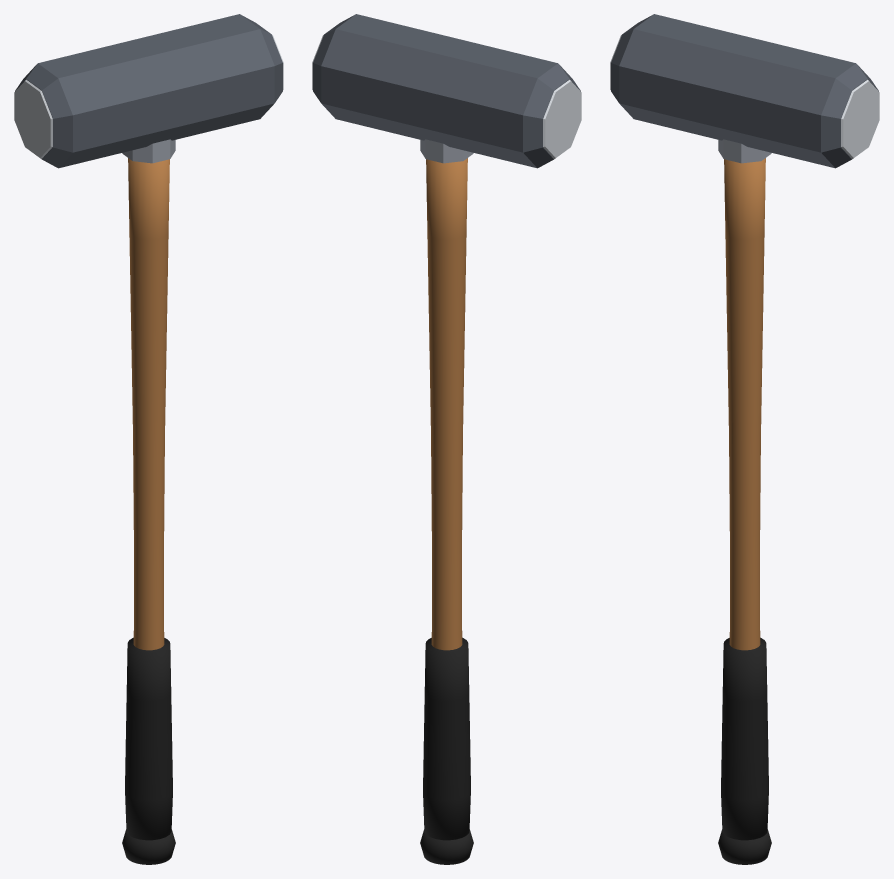
Rendered from Tool_4_Sledgehammer.glb.
3 renders of one model, left to right at view 1: azimuth 30°, elevation 25°; view 2: azimuth 150°, elevation 25°; view 3: azimuth 330°, elevation 25°, orthographic.
Visible parts, largest first — view 1: Head, Handle, Grip, Faces, Collar; view 2: Head, Handle, Grip, Faces, Collar; view 3: Head, Handle, Grip, Faces, Collar.
Boxes of the visible parts, box(x1,y1,x2,y2) form: Head: box(15, 14, 282, 168); Handle: box(128, 158, 169, 650); Grip: box(122, 637, 175, 864); Faces: box(14, 35, 283, 158); Collar: box(122, 139, 175, 163); Head: box(313, 14, 580, 168); Handle: box(426, 158, 467, 650); Grip: box(420, 637, 473, 864); Faces: box(312, 35, 581, 158); Collar: box(420, 139, 473, 163); Head: box(611, 14, 878, 168); Handle: box(724, 158, 765, 650); Grip: box(718, 637, 771, 864); Faces: box(610, 35, 879, 158); Collar: box(718, 139, 771, 163).
Bounding box in the file's own units: 0.3 × 0.9954 × 0.1109.
